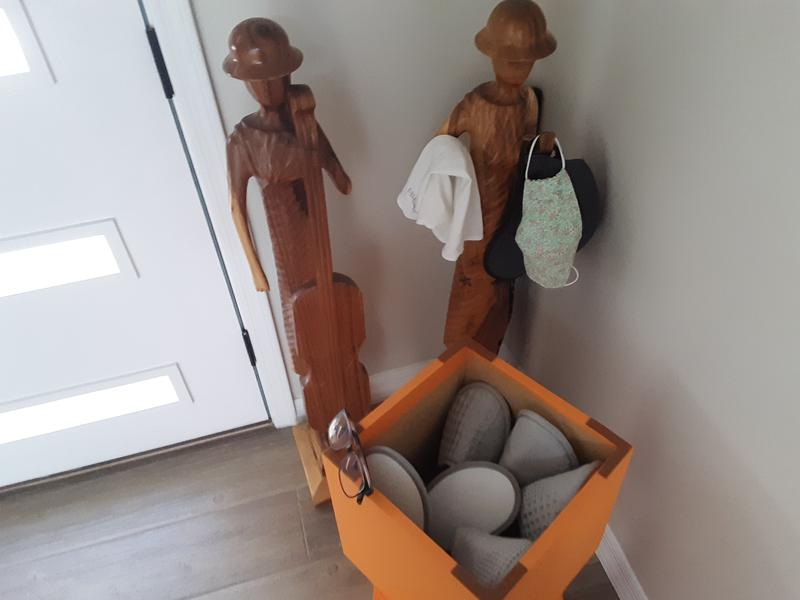glasses: (324, 405, 375, 507)
